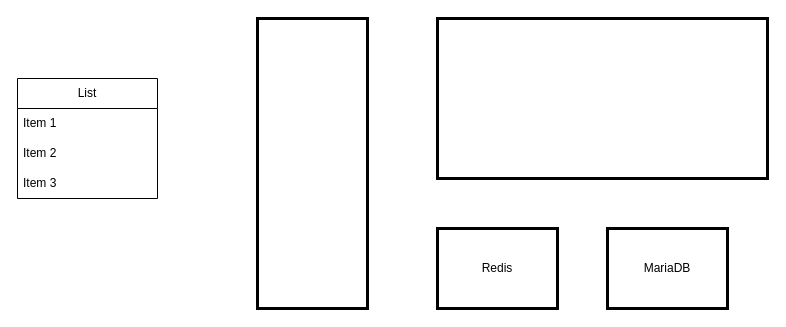
The diagram is 786 pixels wide and 327 high, and some of its shapes have lost their labels. Here are the shapes that lost their labels. From the top down, the centre of each, then its label:
At pixel 602 98: "Python env".
At pixel 312 163: "Enginx".
